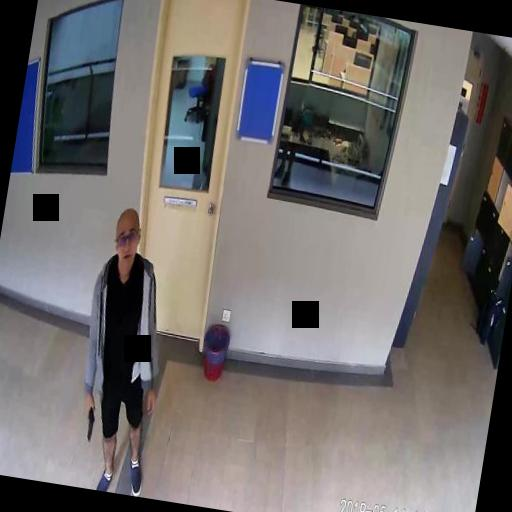Handgun: (80, 401, 95, 439)
